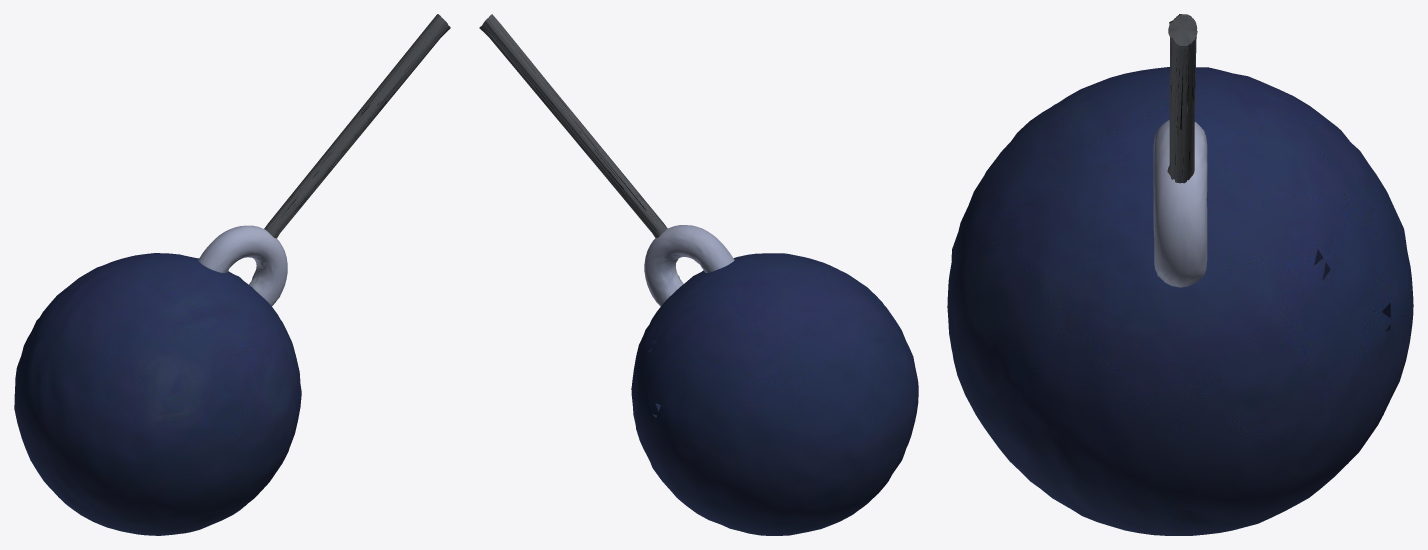
File: wrecking_ball.glb
The picture shows the model from 3 angles, left to right: view 1: azimuth 30°, elevation 25°; view 2: azimuth 150°, elevation 25°; view 3: azimuth 270°, elevation 25°; orthographic projection. The views are drawn at different scales.
Parts seen in each view (by area): view 1: geometry_0; view 2: geometry_0; view 3: geometry_0.
Part boxes in pixels (x1,y1,x2,y2): geometry_0: [14, 14, 450, 535]; geometry_0: [479, 14, 918, 535]; geometry_0: [947, 14, 1413, 535].
Size of the model in its own units: 0.9424 by 0.9482 by 0.5503.
Materials: 1 (1 with a texture image).
